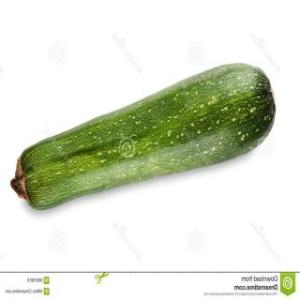zucchini: (1, 52, 273, 212)
